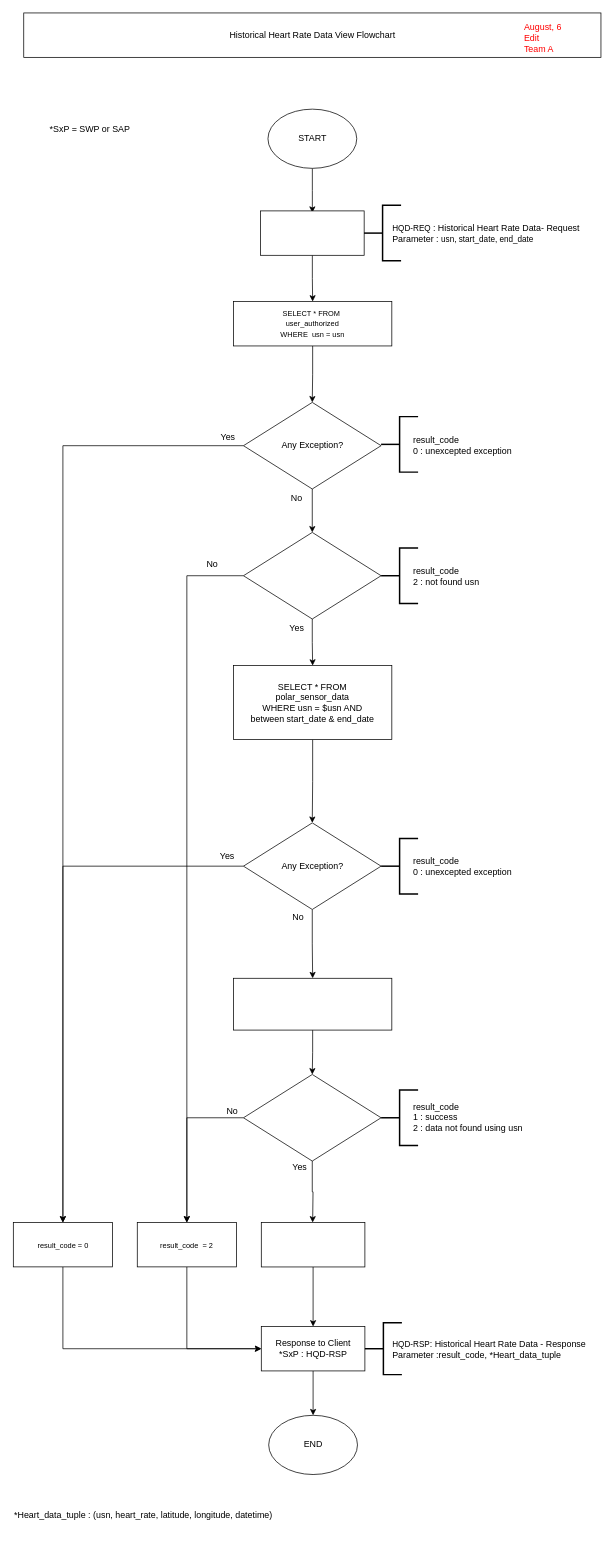
The diagram is 614 pixels wide and 1550 high, and some of its shapes have lost their labels. The shapes that lost their labels are listed below. From the top down, each one's centre as x and y in pixels, then its label:
At (x=312, y=232): "Receive request from Client *SxP : HQD -REQ".
At (x=312, y=575): "Is there a usn in DB?".
At (x=312, y=1004): "affected_row_count = $query -> rowCount()".
At (x=312, y=1117): "affected_row_count > 0 ?".
At (x=313, y=1244): "result_code = 1".
